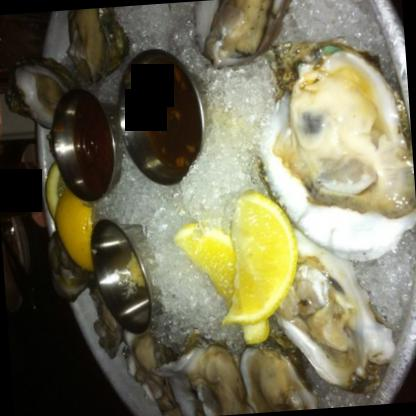lemon: (173, 220, 269, 350), (216, 189, 300, 326)
oyster: (246, 43, 415, 259), (272, 245, 390, 394), (166, 339, 248, 415), (234, 338, 310, 414), (194, 0, 283, 64)
